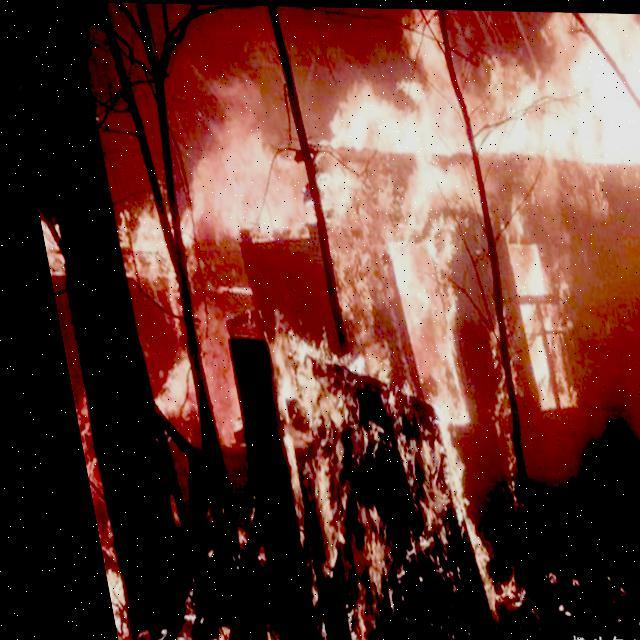Fire: (97, 5, 639, 639)
